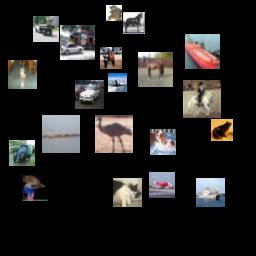airplane: (149, 172, 175, 198), (108, 73, 127, 92)
automobile: (60, 25, 95, 60), (75, 80, 104, 109)
bird: (95, 115, 133, 153), (22, 175, 48, 201)
cat: (113, 178, 142, 207), (106, 5, 122, 21)
dog: (8, 60, 37, 89), (150, 129, 176, 155)
frog: (211, 119, 233, 141)
ship: (42, 115, 80, 153), (185, 34, 220, 69), (196, 178, 225, 207)
truck: (33, 16, 59, 42), (9, 140, 35, 166)
